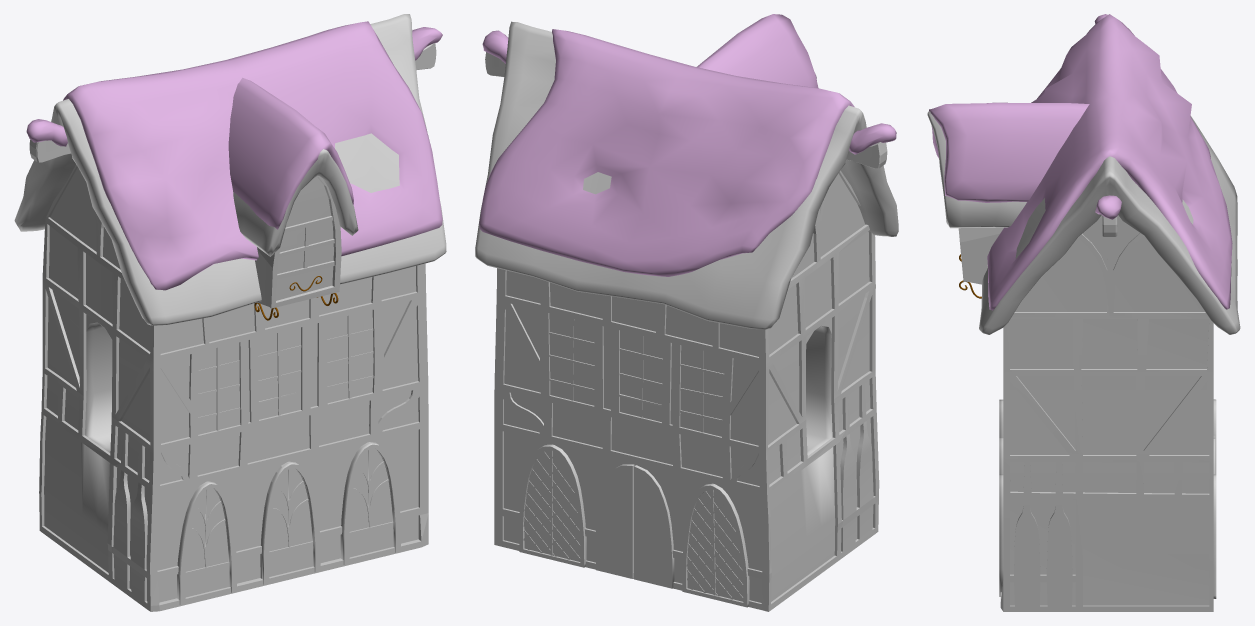
Rendered from Pony_House_05.fbx.
3 renders of one model, left to right at view 1: azimuth 30°, elevation 25°; view 2: azimuth 150°, elevation 25°; view 3: azimuth 270°, elevation 25°, orthographic. The views are drawn at different scales.
Parts seen in each view (by area): view 1: House_05, House_05Snow; view 2: House_05, House_05Snow; view 3: House_05, House_05Snow.
Boxes of the visible parts, x1,y1,x2,y2 form: House_05: (14,14,446,611); House_05Snow: (26,21,442,290); House_05: (475,21,898,611); House_05Snow: (479,14,896,276); House_05: (927,111,1240,611); House_05Snow: (929,14,1232,310).
Bounding box in the file's own units: 33.07 × 37.25 × 22.85.
